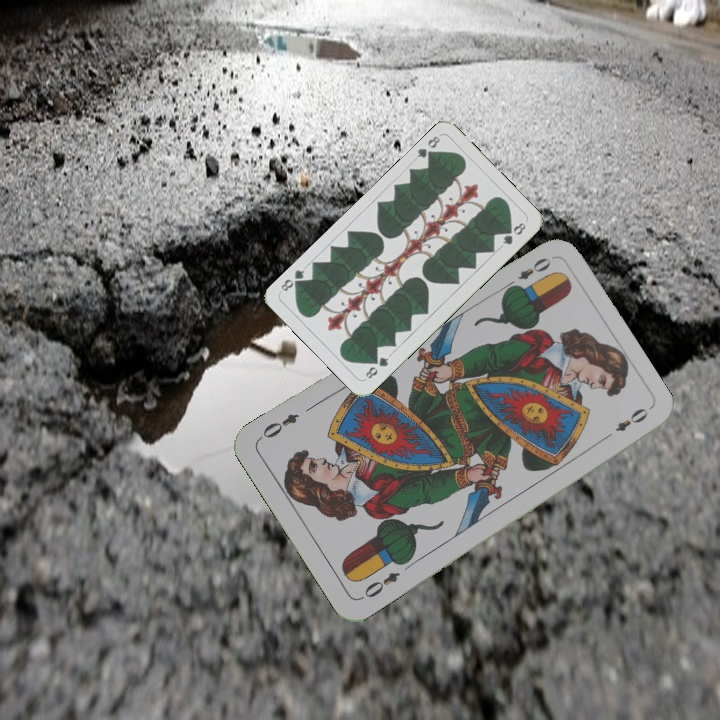EO: (501, 253, 554, 292), (356, 568, 403, 603)
G8: (412, 132, 443, 163), (361, 353, 392, 381)
